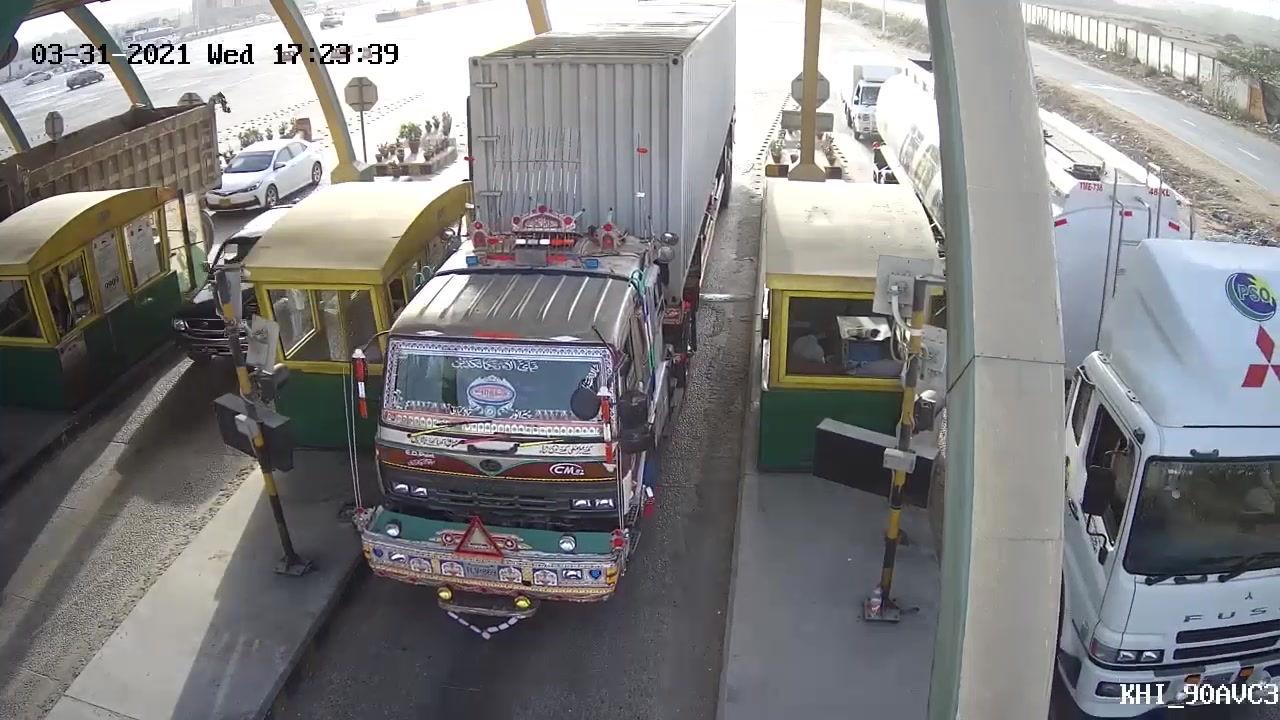F6: (351, 1, 749, 609)
